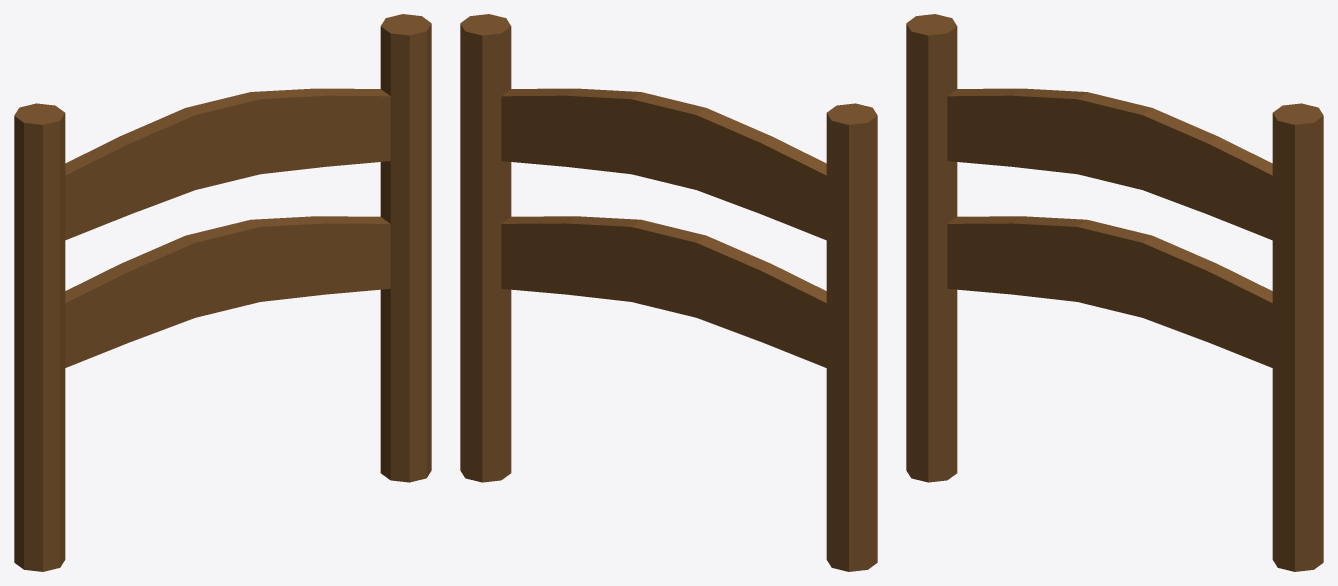
Rendered from fence1a.fbx.
The picture shows the model from 3 angles, left to right: view 1: azimuth 30°, elevation 25°; view 2: azimuth 150°, elevation 25°; view 3: azimuth 330°, elevation 25°; orthographic projection.
Parts seen in each view (by area): view 1: fence1; view 2: fence1; view 3: fence1.
Boxes of the visible parts, <box> form: fence1: <box>14,14,431,571</box>; fence1: <box>460,14,877,571</box>; fence1: <box>906,14,1323,571</box>.
Size of the model in its own units: 278 by 291 by 28.12.
